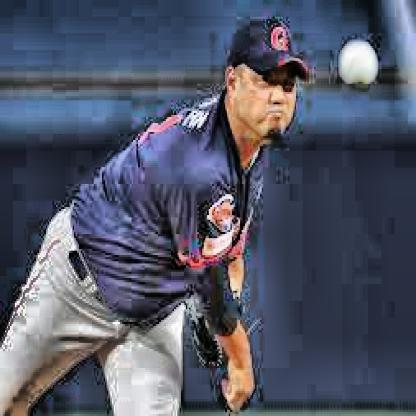baseball: (341, 37, 378, 89)
